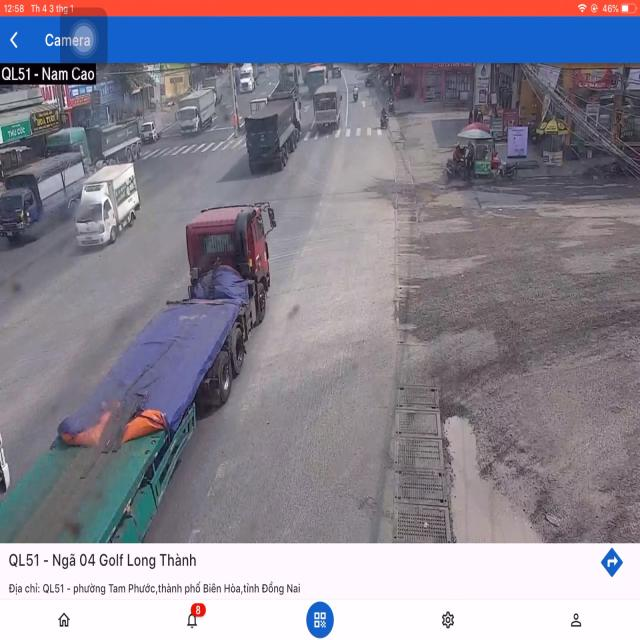car: (305, 601, 335, 638)
motorbike: (58, 608, 71, 628)
truck: (86, 206, 272, 462), (0, 157, 83, 238), (76, 161, 139, 252), (245, 92, 300, 177), (174, 88, 214, 136), (314, 85, 341, 136)
